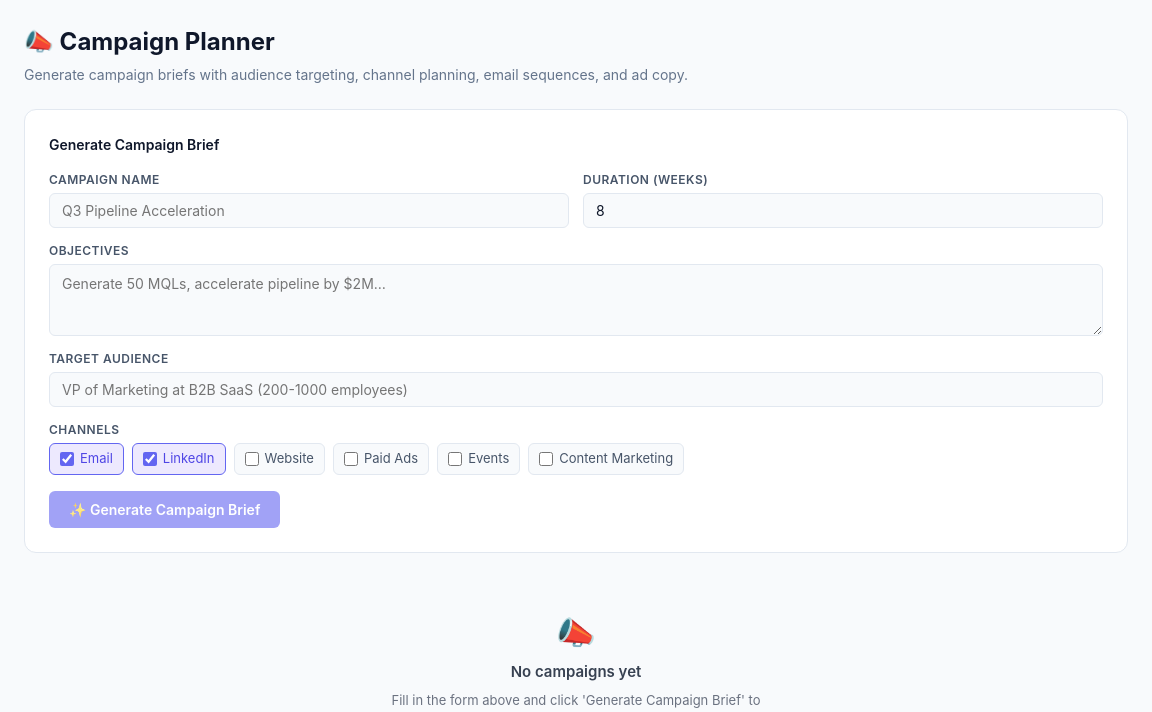
Test: Campaigns page › error state › shows error banner when generateCampaign fails
In the field with test id "campaign-name-input": [309, 210] box [49,193,569,228], type "Q3 Campaign"
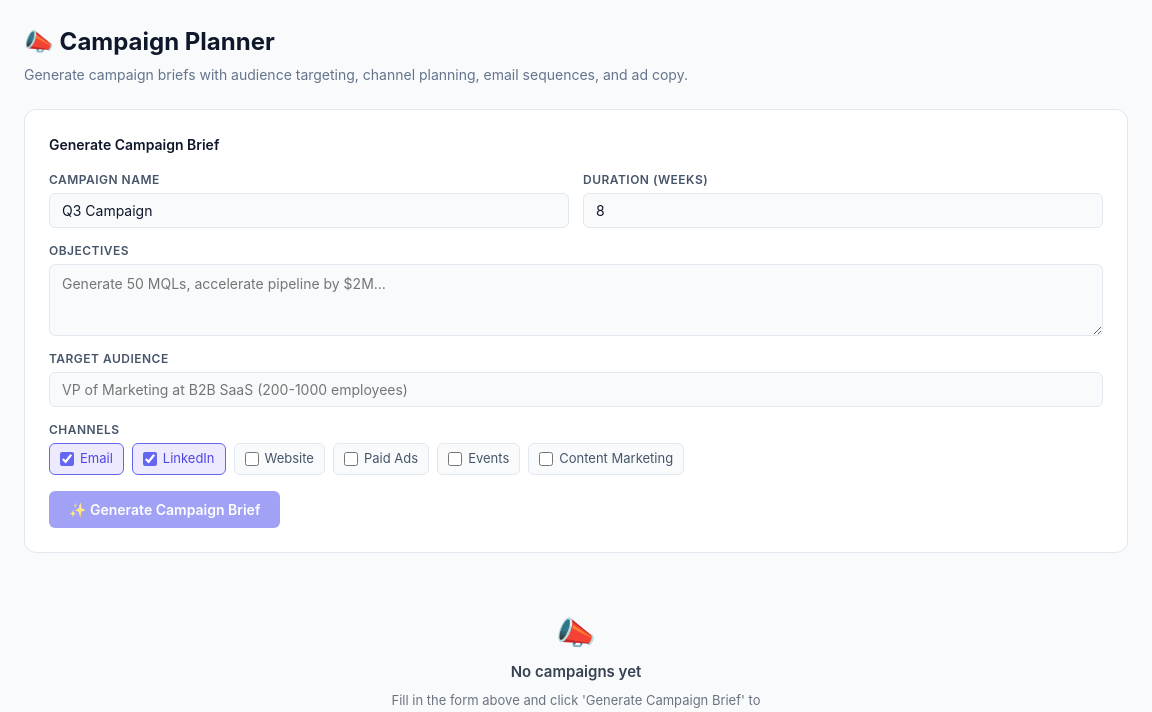
In the text box with test id "objectives-input": [576, 300] box [49,264,1103,336], type "Generate MQLs"
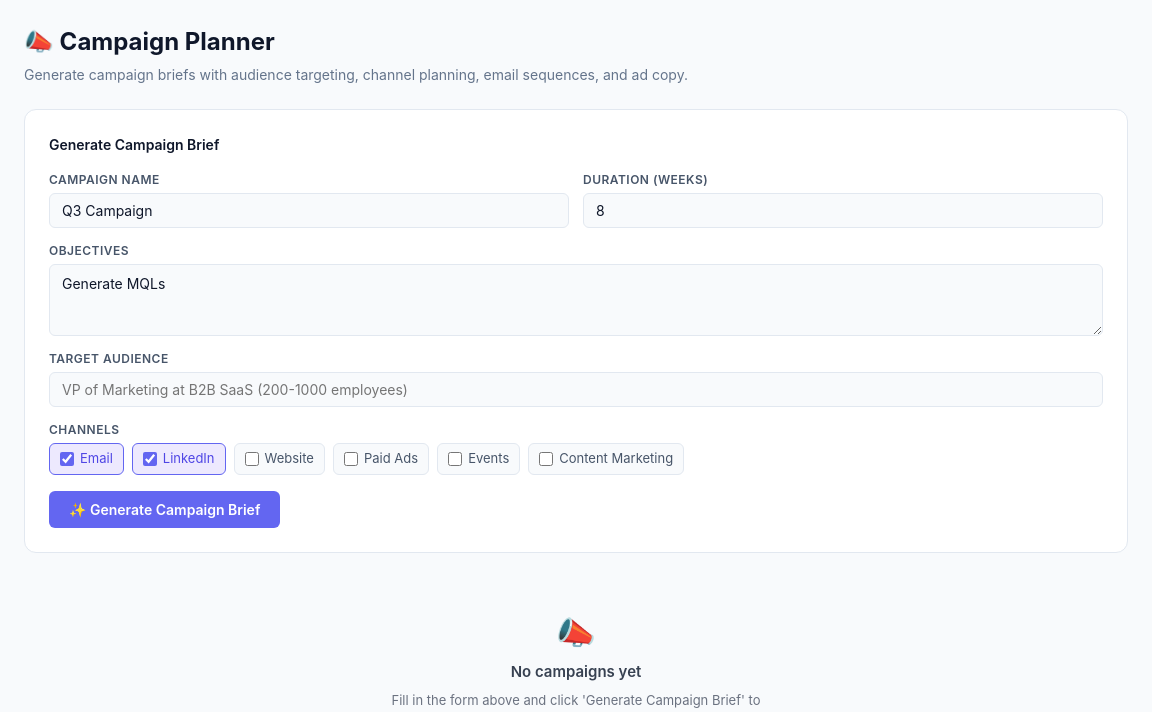
Click the button with test id "generate-campaign-button": [165, 509] box [49,490,280,528]
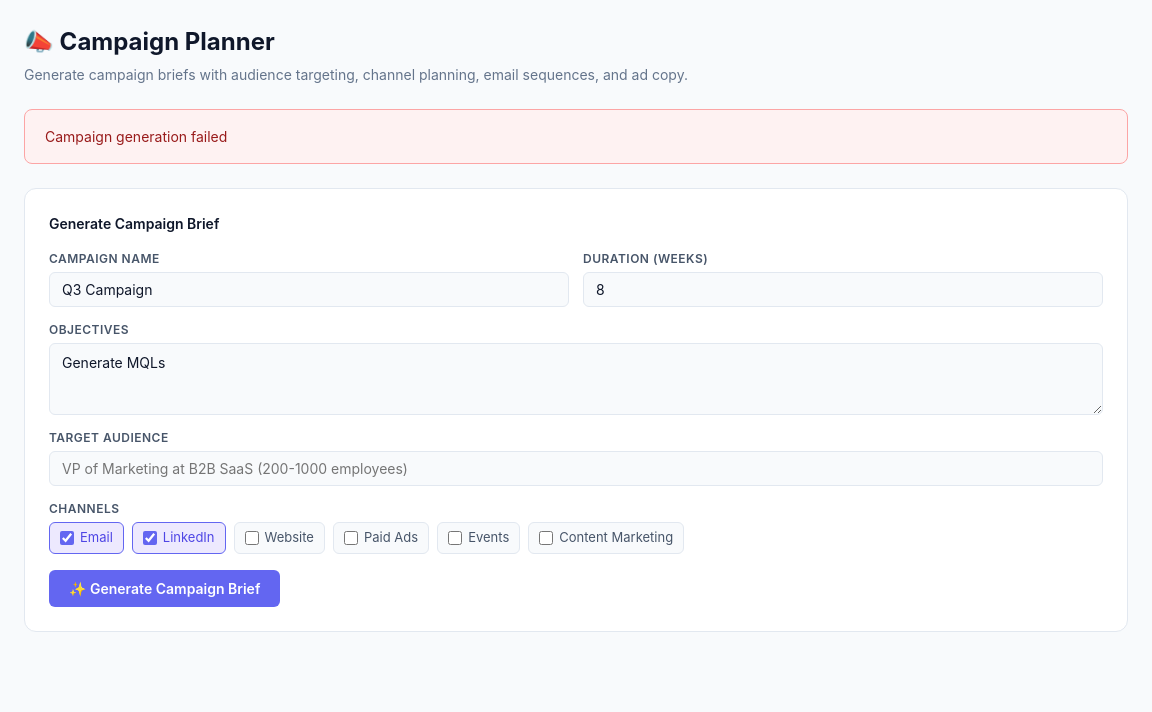
Expected: the message "Campaign generation failed" is shown, [24,109,1128,164]
